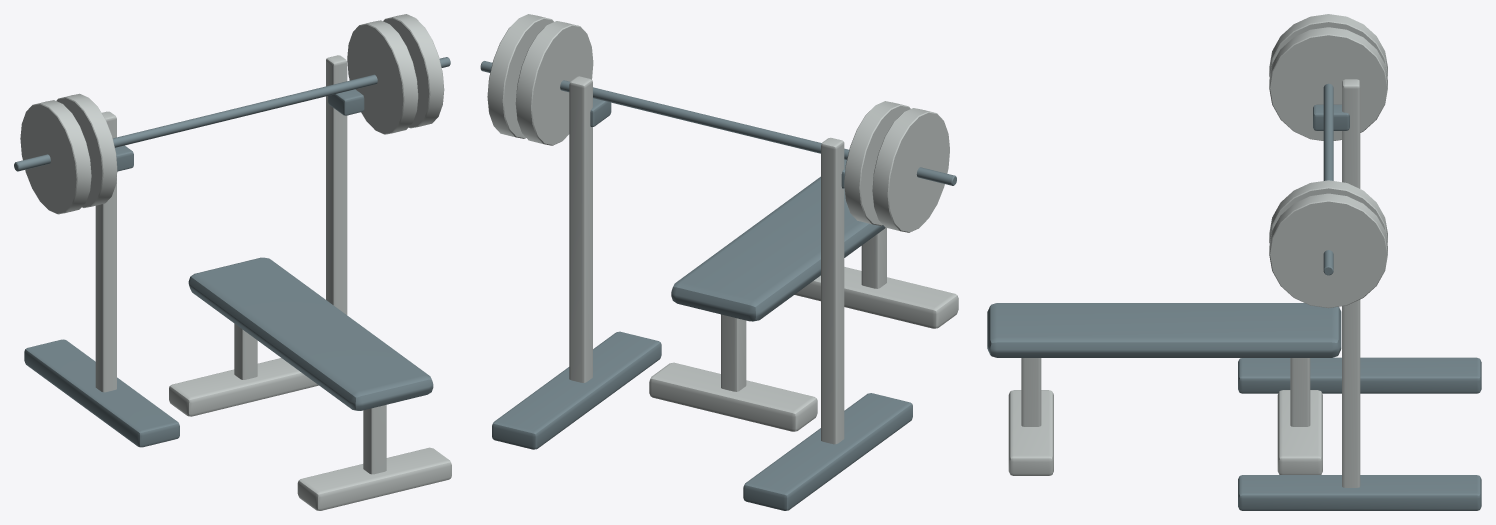
Rendered from bench-press.glb.
3 renders of one model, left to right at view 1: azimuth 30°, elevation 25°; view 2: azimuth 150°, elevation 25°; view 3: azimuth 270°, elevation 25°, orthographic. The views are drawn at different scales.
Parts seen in each view (by area): view 1: bench_cushion, rack_foot, weight_plate, weight_plate.002, bench_foot.001, rack_upright.001, bench_foot, rack_upright, barbell, weight_plate.001, weight_plate.003, bench_leg.001 (+2 smaller); view 2: bench_cushion, rack_foot, rack_foot.001, rack_upright.001, rack_upright, weight_plate, weight_plate.002, bench_foot, bench_foot.001, weight_plate.001, weight_plate.003, barbell (+2 smaller); view 3: bench_cushion, weight_plate.003, weight_plate.001, rack_foot.001, rack_foot, rack_upright.001, bench_foot.001, bench_foot, rack_upright, weight_plate.002, weight_plate, bench_leg (+3 smaller).
Boxes of the visible parts, x1,y1,x2,y2 form: bench_cushion: (188, 257, 433, 410); rack_foot: (24, 339, 179, 447); weight_plate: (20, 100, 91, 214); weight_plate.002: (347, 20, 418, 134); bench_foot.001: (297, 447, 451, 510); rack_upright.001: (326, 55, 347, 314); bench_foot: (169, 358, 318, 416); rack_upright: (95, 111, 116, 392); barbell: (14, 57, 450, 171); weight_plate.001: (56, 93, 117, 207); weight_plate.003: (383, 14, 444, 128); bench_leg.001: (363, 405, 386, 474); bench_cushion: (671, 176, 885, 321); rack_foot: (743, 393, 912, 510); rack_foot.001: (492, 331, 661, 449); rack_upright.001: (569, 76, 592, 382); rack_upright: (821, 137, 844, 444); weight_plate: (872, 108, 949, 232); weight_plate.002: (515, 21, 593, 145); bench_foot: (649, 362, 817, 431); bench_foot.001: (794, 267, 958, 328); weight_plate.001: (844, 101, 910, 225); weight_plate.003: (487, 14, 553, 138); barbell: (480, 61, 956, 185); bench_cushion: (987, 303, 1341, 357); weight_plate.003: (1269, 193, 1387, 308); weight_plate.001: (1269, 27, 1387, 140); rack_foot.001: (1238, 475, 1481, 510); rack_foot: (1238, 357, 1481, 393); rack_upright.001: (1342, 299, 1360, 487); bench_foot.001: (1008, 390, 1053, 475); bench_foot: (1277, 390, 1322, 474); rack_upright: (1342, 79, 1360, 188); weight_plate.002: (1269, 180, 1387, 243); weight_plate: (1269, 14, 1387, 77); bench_leg: (1290, 358, 1310, 426).
Size of the model in its own units: 1.84 by 1.31 by 1.74.
